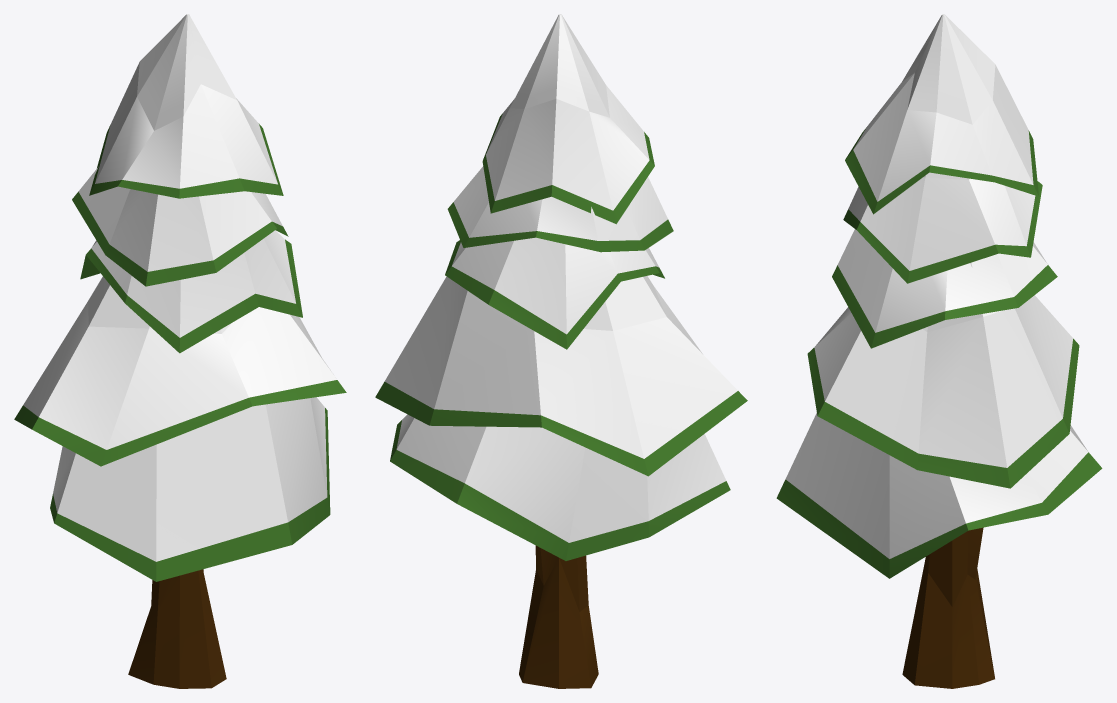
File: TreePineSnow.fbx
3 renders of one model, left to right at view 1: azimuth 30°, elevation 25°; view 2: azimuth 150°, elevation 25°; view 3: azimuth 270°, elevation 25°, orthographic.
Parts seen in each view (by area): view 1: SnowTree1; view 2: SnowTree1; view 3: SnowTree1.
Part boxes in pixels (<box>): SnowTree1: <box>14,14,346,688</box>; SnowTree1: <box>375,14,747,688</box>; SnowTree1: <box>776,14,1102,688</box>.
Bounding box in the file's own units: 80.33 × 155 × 69.6.
